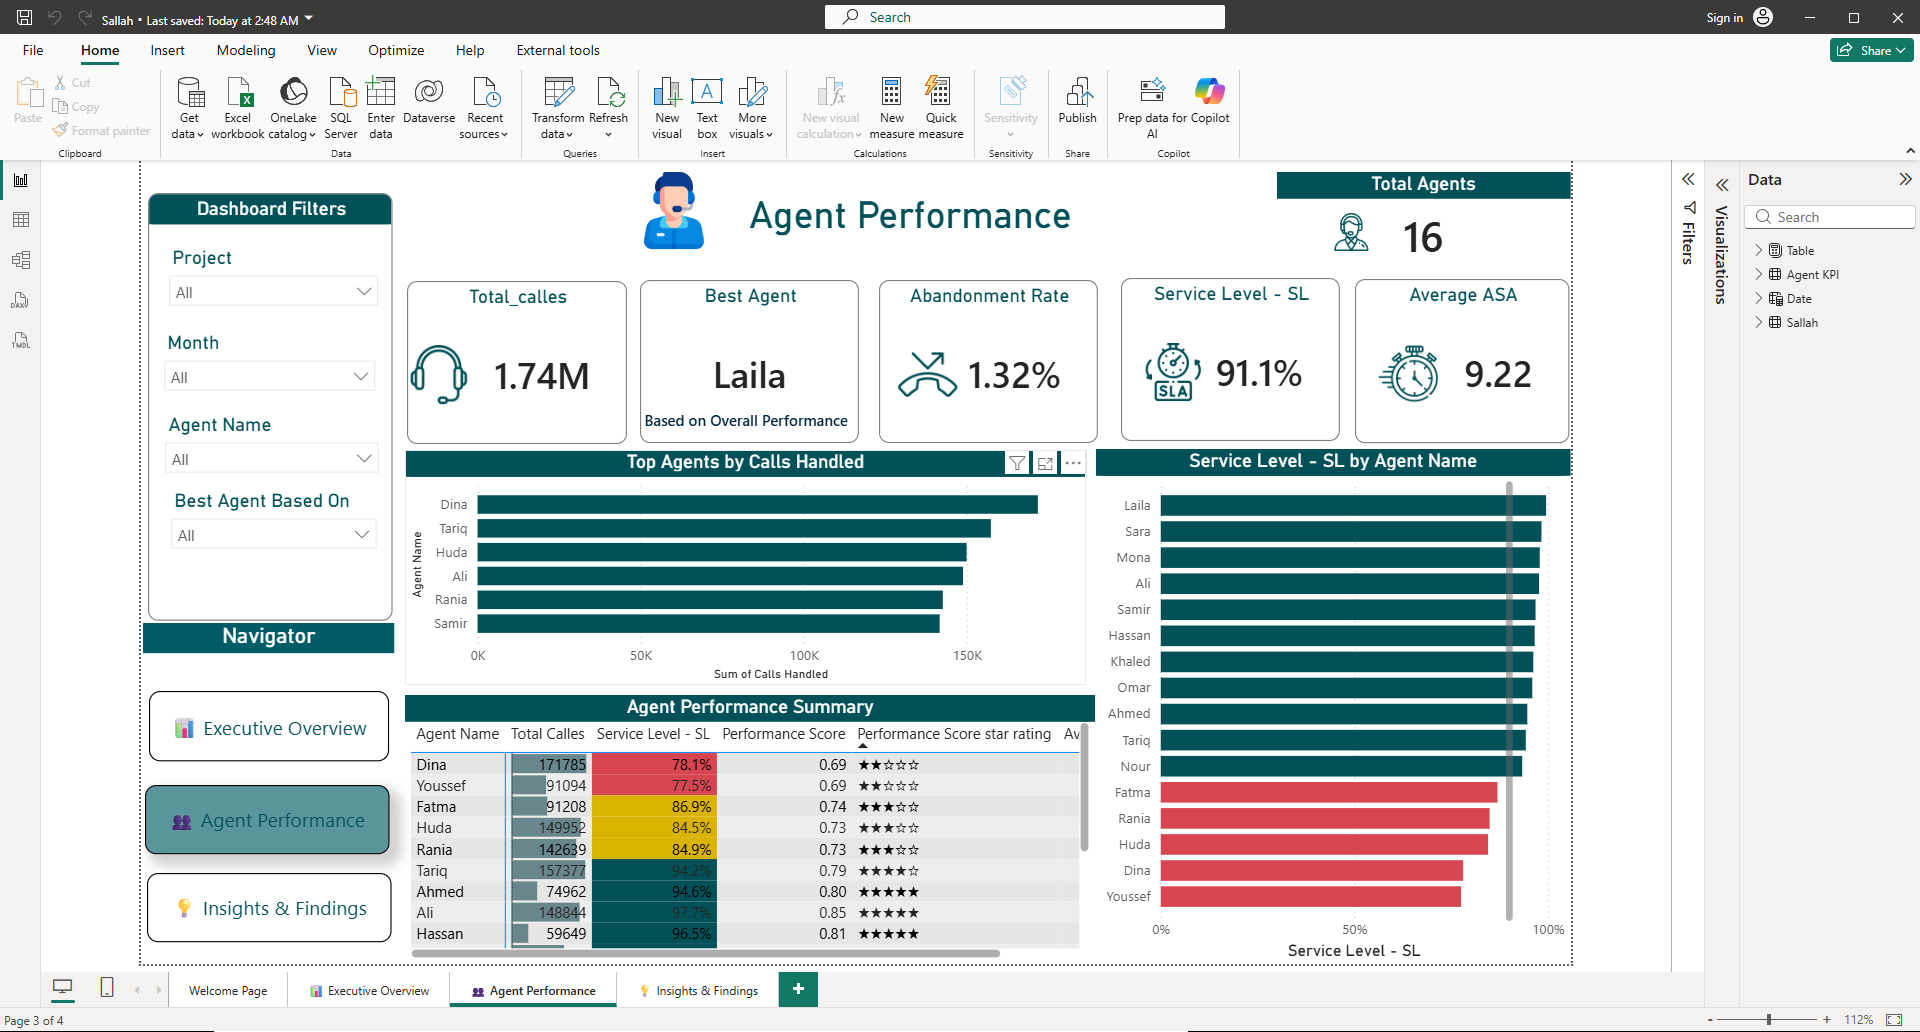

Layout of this report page (visuals, bound fields, positions):
{"tool":"powerbi","page":{"name":"👥 Agent Performance","canvas":[1280,720],"ordinal":2},"visuals":[{"type":"cardVisual","title":"Total Agents","fields":{"Data":["Count(Sallah.Agent Name)"]},"box":[1017.3,10.8,262.7,91.9],"z":0},{"type":"cardVisual","title":"Average ASA","fields":{"Data":["Table.Average ASA"]},"box":[1086.9,106.9,192.2,146.6],"z":0,"group":"g3"},{"type":"textbox","title":"Agent Performance ","box":[378.4,29.6,620.6,66.3],"z":1000,"group":"g2"},{"type":"image","box":[1046.5,47.6,73.5,33.5],"z":1000},{"type":"cardVisual","title":"Abandonment Rate","fields":{"Data":["Table.Abandonment Rate"]},"box":[661.2,107.2,196.3,146.3],"z":1000,"group":"g5"},{"type":"actionButton","title":"Navigator","box":[2.1,414.3,225.1,293.8],"z":1000,"group":"g8"},{"type":"cardVisual","title":"Service Level - SL","fields":{"Data":["Table.Service Level - SL"]},"box":[878.3,105.9,196.3,146.3],"z":2000,"group":"g1"},{"type":"cardVisual","title":"Total_calles","fields":{"Data":["Table.Total_calles"]},"box":[238,108.1,197,146],"z":2000,"group":"g9"},{"type":"clusteredBarChart","fields":{"Category":["Sallah.Agent Name"],"Y":["Table.Service Level - SL"]},"box":[855.1,258.4,424.9,461.6],"z":2000},{"type":"image","box":[229,165.1,75,53],"z":3000,"group":"g9"},{"type":"barChart","title":"Top Agents by Calls Handled","fields":{"Category":["Sallah.Agent Name"],"Y":["Sum(Sallah.Calls Handled)"]},"box":[236.8,259.5,609.7,210.8],"z":3000},{"type":"actionButton","box":[5.4,637.9,218.6,61.9],"z":3000,"group":"g8"},{"type":"group","id":"g1","title":"Group 2","box":[875.3,105.9,198.8,146.9],"z":4000},{"type":"image","box":[1085.9,165.4,97.1,52.5],"z":4000,"group":"g3"},{"type":"group","id":"g2","title":"Group 4","box":[378.4,10.8,620.5,84.3],"z":5000},{"type":"image","box":[668.8,165.4,73.3,52.5],"z":5000,"group":"g5"},{"type":"actionButton","box":[7.1,475,215.3,63],"z":5000,"group":"g8"},{"type":"cardVisual","title":"Best Agent ","fields":{"Data":["Table.Best Agent Dynamic"]},"box":[446.6,107.4,196.5,145.9],"z":6000},{"type":"image","box":[875.3,164.2,98.7,52.3],"z":6000,"group":"g1"},{"type":"pivotTable","title":"Agent Performance Summary","fields":{"Rows":["Sallah.Agent Name"],"Values":["Sum(Sallah.Calls Handled)","Table.Service Level - SL","Table.Performance Score","Table.Performance Score star rating","Table.Average ASA"]},"box":[236.8,478.9,618.4,241.1],"z":7000},{"type":"group","id":"g3","title":"Group 5","box":[1085.9,106.9,193.2,146.6],"z":8000},{"type":"group","id":"g4","title":"Group 1","box":[6.5,29.2,219.4,382.7],"z":9000,"group":"g7"},{"type":"group","id":"g5","title":"Group 6","box":[661.2,107.2,196.3,146.3],"z":9000},{"type":"actionButton","title":"Dashboard Filters","box":[6.5,29.2,219.4,382.7],"z":10000,"group":"g4"},{"type":"group","id":"g6","title":"Group 7","box":[229,108.1,206,146],"z":10000},{"type":"slicer","fields":{"Values":["Sallah.Project"]},"box":[15.6,72.2,207.3,90],"z":11000,"group":"g4"},{"type":"cardVisual","fields":{"Data":["Table.Selected KPI"]},"box":[421.6,205.4,245.4,53],"z":11000},{"type":"image","box":[416.9,10.8,120,69],"z":12000,"group":"g2"},{"type":"group","id":"g7","title":"Group 8","box":[6.5,29.2,216.2,382.7],"z":12000},{"type":"slicer","fields":{"Values":["Date.Month"]},"box":[11.4,147.9,208.8,83.4],"z":12000,"group":"g4"},{"type":"slicer","fields":{"Values":["Sallah.Agent Name"]},"box":[11.5,221.5,210.9,78.5],"z":13000,"group":"g4"},{"type":"group","id":"g8","title":"Group 2","box":[2.1,414.3,225.1,293.8],"z":13000},{"type":"slicer","fields":{"Values":["Agent KPI.matrc "]},"box":[16.9,290.1,203.6,58.8],"z":14000,"group":"g7"},{"type":"actionButton","box":[4.3,559.2,218.6,61.9],"z":18000,"group":"g8"},{"type":"group","id":"g9","title":"Group 9","box":[229,108.1,206,146],"z":19002,"group":"g6"}]}

Visuals, with their boxes on the page's 1280x720 design canvas (x1, y1, x2, y2). These are canvas units, not pixel positions in the 1920x1032 screenshot, which may show the page scaled, cropped or inside an application window:
"Total Agents" cardVisual: [1017, 11, 1280, 103]
"Average ASA" cardVisual: [1087, 107, 1279, 254]
"Agent Performance " textbox: [378, 30, 999, 96]
image: [1046, 48, 1120, 81]
"Abandonment Rate" cardVisual: [661, 107, 858, 254]
"Navigator" actionButton: [2, 414, 227, 708]
"Service Level - SL" cardVisual: [878, 106, 1075, 252]
"Total_calles" cardVisual: [238, 108, 435, 254]
clusteredBarChart - Sallah.Agent Name x Table.Service Level - SL: [855, 258, 1280, 720]
image: [229, 165, 304, 218]
"Top Agents by Calls Handled" barChart: [237, 260, 846, 470]
actionButton: [5, 638, 224, 700]
"Group 2" group: [875, 106, 1074, 253]
image: [1086, 165, 1183, 218]
"Group 4" group: [378, 11, 999, 95]
image: [669, 165, 742, 218]
actionButton: [7, 475, 222, 538]
"Best Agent " cardVisual: [447, 107, 643, 253]
image: [875, 164, 974, 216]
"Agent Performance Summary" pivotTable: [237, 479, 855, 720]
"Group 5" group: [1086, 107, 1279, 254]
"Group 1" group: [6, 29, 226, 412]
"Group 6" group: [661, 107, 858, 254]
"Dashboard Filters" actionButton: [6, 29, 226, 412]
"Group 7" group: [229, 108, 435, 254]
slicer - Sallah.Project: [16, 72, 223, 162]
cardVisual - Table.Selected KPI: [422, 205, 667, 258]
image: [417, 11, 537, 80]
"Group 8" group: [6, 29, 223, 412]
slicer - Date.Month: [11, 148, 220, 231]
slicer - Sallah.Agent Name: [12, 222, 222, 300]
"Group 2" group: [2, 414, 227, 708]
slicer - Agent KPI.matrc : [17, 290, 220, 349]
actionButton: [4, 559, 223, 621]
"Group 9" group: [229, 108, 435, 254]
